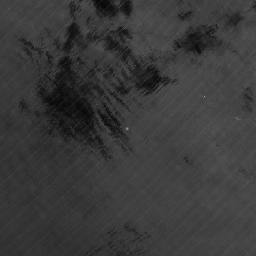Target: (123, 125, 129, 132)
